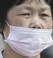with_mask: (2, 1, 53, 58)
